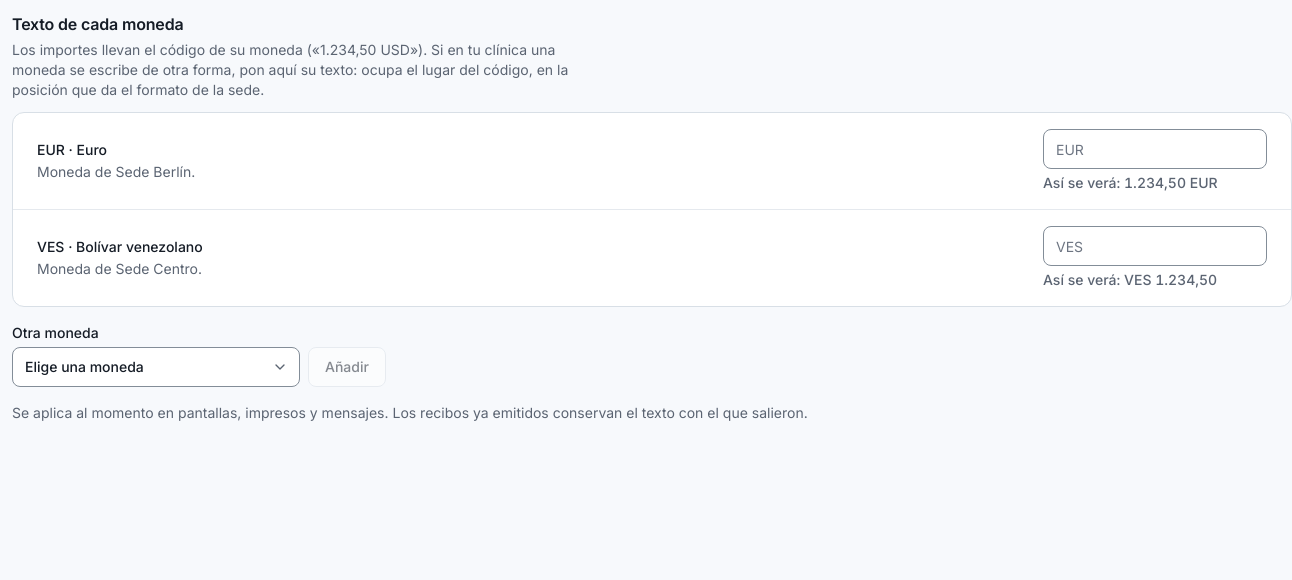
it: Ajustes › Monedas (DX-517) › un texto de más de 8 caracteres no se manda: el campo dice por qué
This screenshot has width=1292, height=580.
Type "Bolívares" into the field named "Texto de VES".
click(1155, 246); type("Bolívares")  # box [1043,226,1267,266]
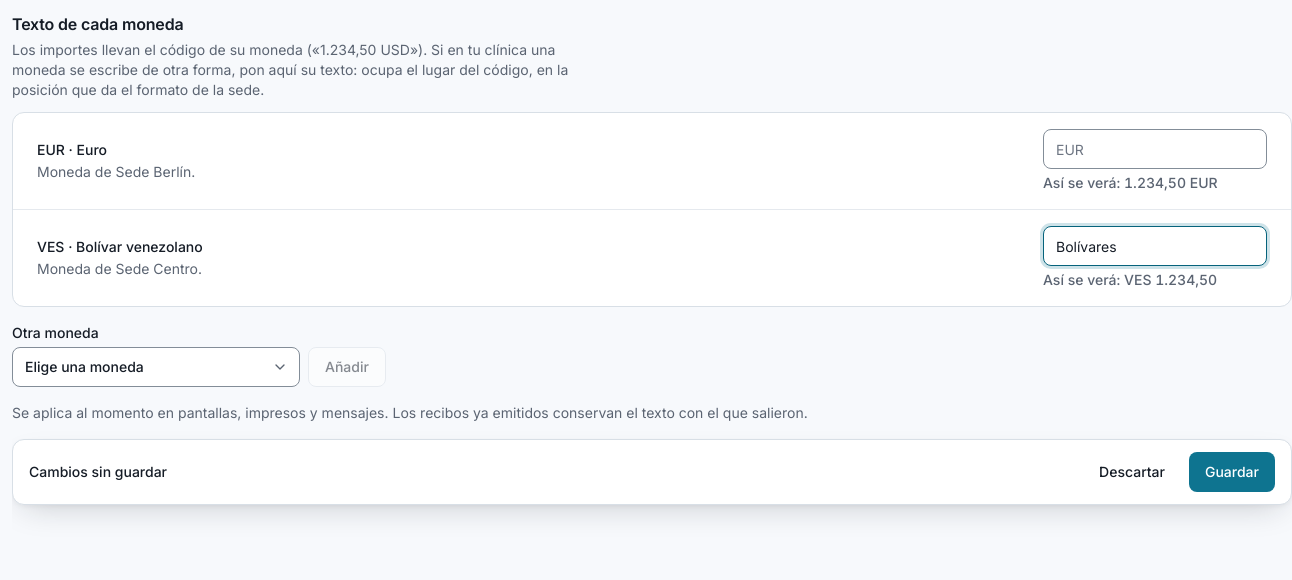
Click the button with aria-label "Guardar el texto de las monedas".
click(1232, 472)  # box [1189,452,1275,492]
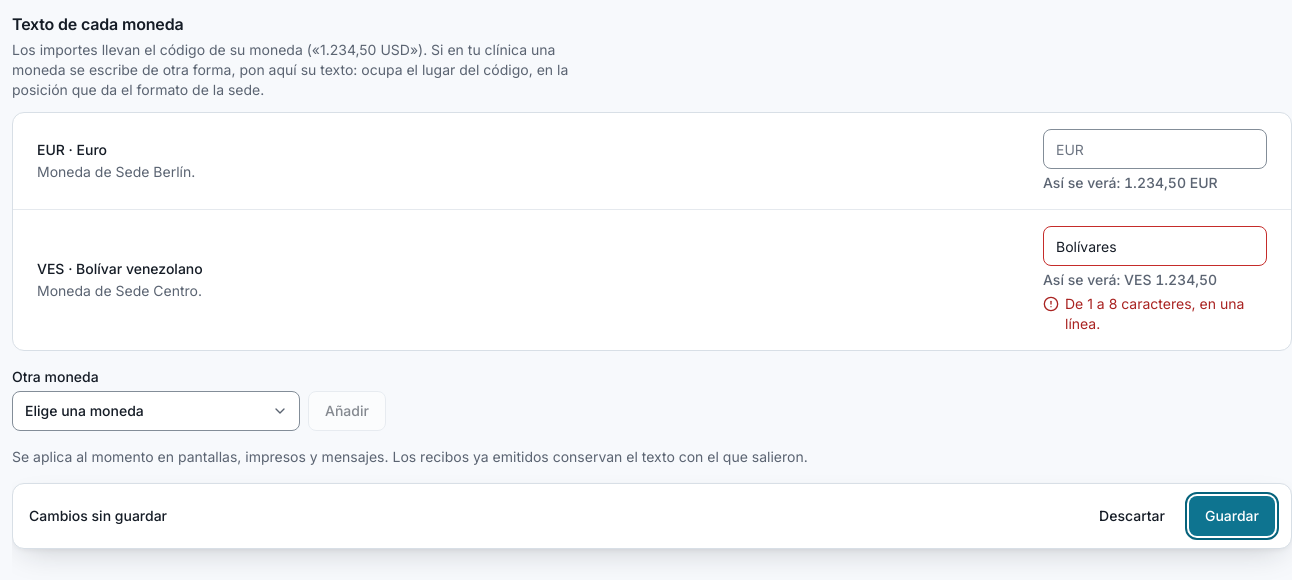
Now the text "De 1 a 8 caracteres, en una línea." is shown, box [1065,294,1267,334]
